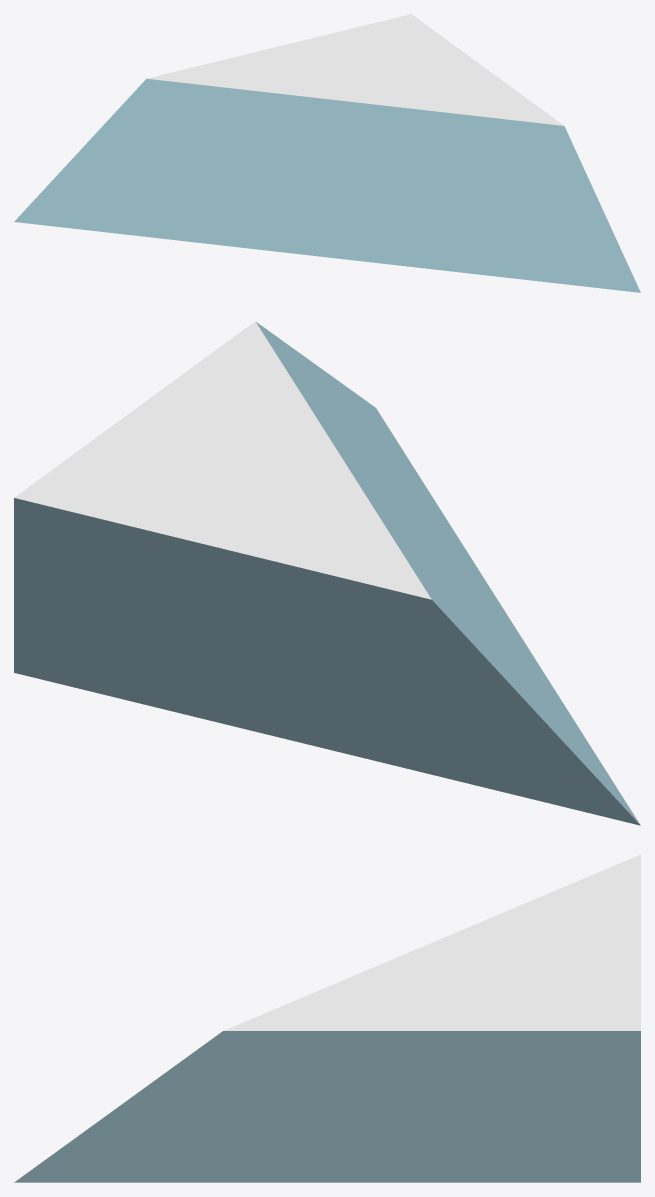
The model's file is Terrain_Modular_Tiles_Snow_Ice_Cliff_Edge_Corner_Inner_01.fbx.
The picture shows the model from 3 angles, top to bottom: view 1: azimuth 30°, elevation 25°; view 2: azimuth 150°, elevation 25°; view 3: azimuth 270°, elevation 25°; orthographic projection. The views are drawn at different scales.
Parts seen in each view (by area): view 1: Terrain_Modular_Tiles_Snow_Ice_Cliff_Edge_Corner_Inner_01; view 2: Terrain_Modular_Tiles_Snow_Ice_Cliff_Edge_Corner_Inner_01; view 3: Terrain_Modular_Tiles_Snow_Ice_Cliff_Edge_Corner_Inner_01.
Part boxes in pixels (box(x1,y1,x2,y2)): Terrain_Modular_Tiles_Snow_Ice_Cliff_Edge_Corner_Inner_01: box(14, 14, 640, 292); Terrain_Modular_Tiles_Snow_Ice_Cliff_Edge_Corner_Inner_01: box(14, 321, 640, 825); Terrain_Modular_Tiles_Snow_Ice_Cliff_Edge_Corner_Inner_01: box(14, 854, 640, 1182).
Size of the model in its own units: 1125 by 300 by 1125.
